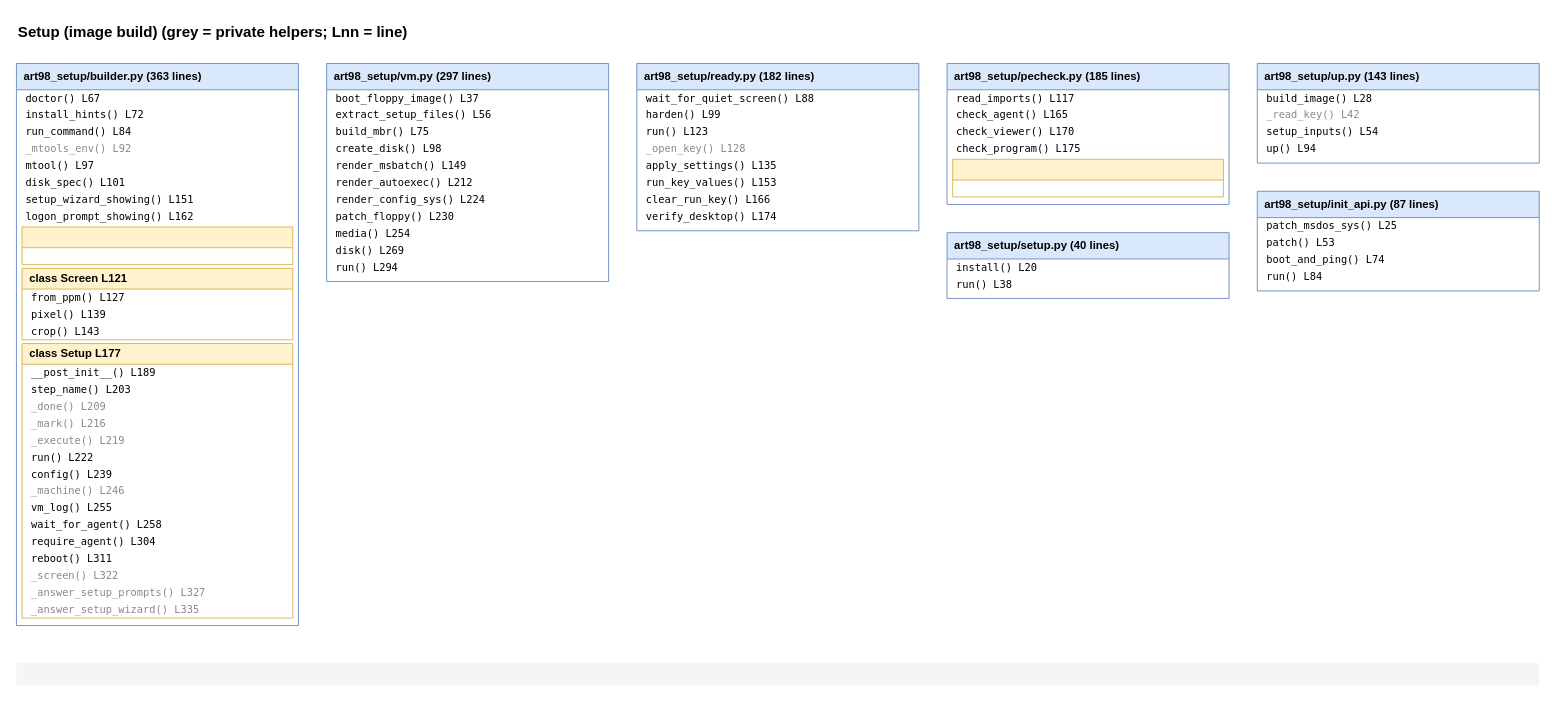
The diagram is 1556 pixels wide and 701 high, and some of its shapes have lost their labels. Here are the shapes that lost their labels. From the top down, the centre of each, then its label:
At [1087,177]: "class PEError (Art98Error, ValueError) L113".
At [157,245]: "class SetupError (Art98Error, RuntimeError) L51".
At [777,674]: "Re-export / empty modules: art98_setup/__init__.py".
